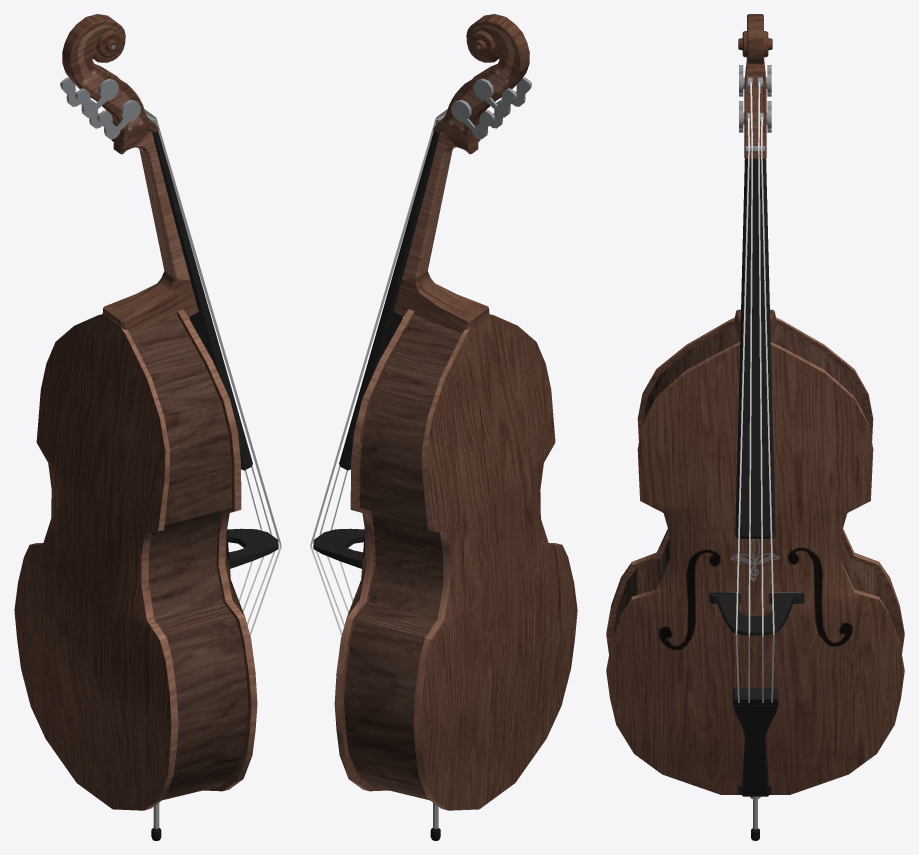
File: cello.fbx
3 views of the same model, side by side, from view 1: azimuth 30°, elevation 25°; view 2: azimuth 150°, elevation 25°; view 3: azimuth 270°, elevation 25° (orthographic). The views are drawn at different scales.
Parts seen in each view (by area): view 1: kontrabass_lp; view 2: kontrabass_lp; view 3: kontrabass_lp.
Boxes of the visible parts, bbox=[...] form: kontrabass_lp: bbox=[14, 14, 281, 840]; kontrabass_lp: bbox=[310, 14, 577, 840]; kontrabass_lp: bbox=[606, 14, 904, 840].
Bounding box in the file's own units: 5215 × 19897 × 6768.
Materials: 1 (1 with a texture image).
